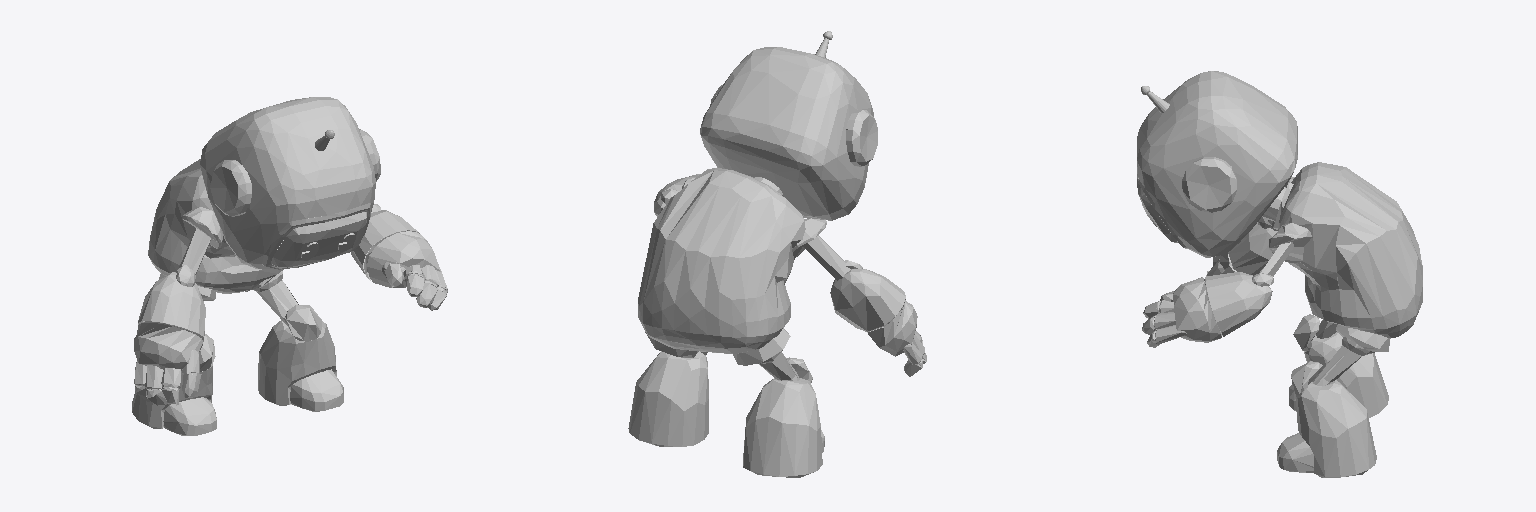
Rendered from kilavuz-yeni-robot.obj.
The picture shows the model from 3 angles: view 1: azimuth 30°, elevation 25°; view 2: azimuth 150°, elevation 25°; view 3: azimuth 270°, elevation 25°; orthographic projection.
Parts seen in each view (by area): view 1: kilavuz.002_Circle.002; view 2: kilavuz.002_Circle.002; view 3: kilavuz.002_Circle.002.
Boxes of the visible parts, x1=… form: kilavuz.002_Circle.002: x1=132, y1=97, x2=447, y2=435; kilavuz.002_Circle.002: x1=628, y1=31, x2=926, y2=477; kilavuz.002_Circle.002: x1=1137, y1=71, x2=1422, y2=477.
Size of the model in its own units: 3.09 by 3.75 by 2.78.